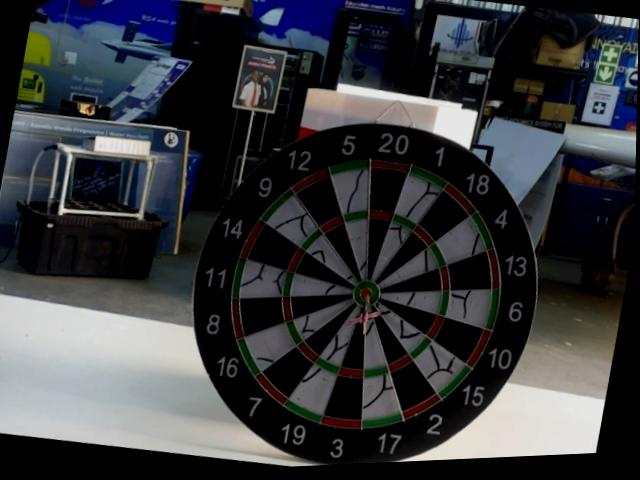bullseye: (357, 283, 375, 306)
